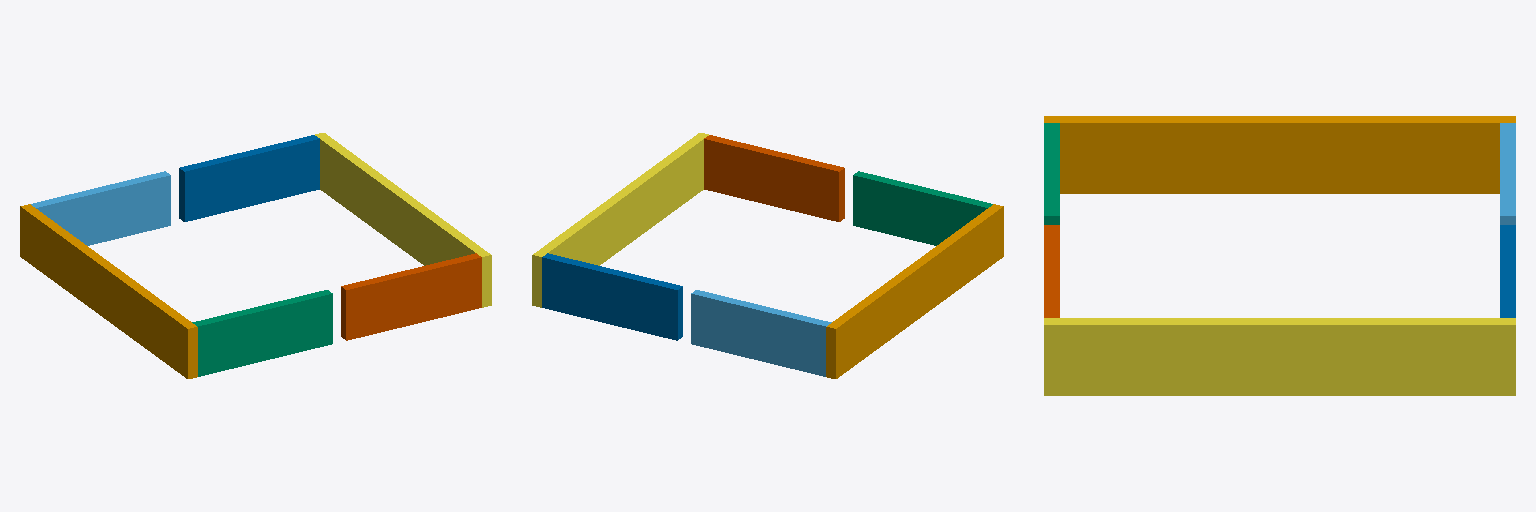
The robot description file, URDF, robot "gripper":
<?xml version="1.0" ?>
<!-- =================================================================================== -->
<!-- |    This document was autogenerated by xacro from gripper_01.urdf.xacro          | -->
<!-- |    EDITING THIS FILE BY HAND IS NOT RECOMMENDED                                 | -->
<!-- =================================================================================== -->
<robot name="gripper" xmlns:xacro="http://ros.org/wiki/xacro">
  <link name="gripper_wide_block_p">
    <visual>
      <geometry>
        <box size="0.01 0.3 0.05"/>
      </geometry>
    </visual>
    <collision name="collision">
      <geometry>
        <box size="0.01 0.3 0.05"/>
      </geometry>
    </collision>
    <inertial>
      <mass value="0.405"/>
      <inertia ixx="0.003121875" ixy="0.0" ixz="0.0" iyy="8.775e-05" iyz="0.0" izz="0.003040875"/>
    </inertial>
  </link>
  <link name="gripper_side_block_p1">
    <visual>
      <geometry>
        <box size="0.14 0.01 0.05"/>
      </geometry>
    </visual>
    <collision name="collision">
      <geometry>
        <box size="0.14 0.01 0.05"/>
      </geometry>
    </collision>
    <inertial>
      <mass value="0.189"/>
      <inertia ixx="4.095e-05" ixy="0.0" ixz="0.0" iyy="0.000348075" iyz="0.0" izz="0.000310275"/>
    </inertial>
  </link>
  <link name="gripper_side_block_p2">
    <visual>
      <geometry>
        <box size="0.14 0.01 0.05"/>
      </geometry>
    </visual>
    <collision name="collision">
      <geometry>
        <box size="0.14 0.01 0.05"/>
      </geometry>
    </collision>
    <inertial>
      <mass value="0.189"/>
      <inertia ixx="4.095e-05" ixy="0.0" ixz="0.0" iyy="0.000348075" iyz="0.0" izz="0.000310275"/>
    </inertial>
  </link>
  <link name="gripper_wide_block_d">
    <visual>
      <geometry>
        <box size="0.01 0.3 0.05"/>
      </geometry>
    </visual>
    <collision name="collision">
      <geometry>
        <box size="0.01 0.3 0.05"/>
      </geometry>
    </collision>
    <inertial>
      <mass value="0.405"/>
      <inertia ixx="0.003121875" ixy="0.0" ixz="0.0" iyy="8.775e-05" iyz="0.0" izz="0.003040875"/>
    </inertial>
  </link>
  <link name="gripper_side_block_d1">
    <visual>
      <geometry>
        <box size="0.14 0.01 0.05"/>
      </geometry>
    </visual>
    <collision name="collision">
      <geometry>
        <box size="0.14 0.01 0.05"/>
      </geometry>
    </collision>
    <inertial>
      <mass value="0.189"/>
      <inertia ixx="4.095e-05" ixy="0.0" ixz="0.0" iyy="0.000348075" iyz="0.0" izz="0.000310275"/>
    </inertial>
  </link>
  <link name="gripper_side_block_d2">
    <visual>
      <geometry>
        <box size="0.14 0.01 0.05"/>
      </geometry>
    </visual>
    <collision name="collision">
      <geometry>
        <box size="0.14 0.01 0.05"/>
      </geometry>
    </collision>
    <inertial>
      <mass value="0.189"/>
      <inertia ixx="4.095e-05" ixy="0.0" ixz="0.0" iyy="0.000348075" iyz="0.0" izz="0.000310275"/>
    </inertial>
  </link>
  <joint name="block_fixed_joint_p1" type="fixed">
    <origin rpy="0 0 0" xyz="0.075 0.145 0"/>
    <parent link="gripper_wide_block_p"/>
    <child link="gripper_side_block_p1"/>
  </joint>
  <joint name="block_fixed_joint_p2" type="fixed">
    <origin rpy="0 0 0" xyz="0.075 -0.145 0"/>
    <parent link="gripper_wide_block_p"/>
    <child link="gripper_side_block_p2"/>
  </joint>
  <joint name="block_fixed_joint_d1" type="fixed">
    <origin rpy="0 0 0" xyz="-0.075 0.145 0"/>
    <parent link="gripper_wide_block_d"/>
    <child link="gripper_side_block_d1"/>
  </joint>
  <joint name="block_fixed_joint_d2" type="fixed">
    <origin rpy="0 0 0" xyz="-0.075 -0.145 0"/>
    <parent link="gripper_wide_block_d"/>
    <child link="gripper_side_block_d2"/>
  </joint>
  <!-- Prismatic joint -->
  <joint name="gripper_joint" type="continuous">
    <origin rpy="0 0 0" xyz="0.304 0 0"/>
    <parent link="gripper_wide_block_p"/>
    <child link="gripper_wide_block_d"/>
  </joint>
  <transmission name="gripper_joint_transmission">
    <type>transmission_interface/SimpleTransmission</type>
    <joint name="gripper_joint">
      <hardwareInterface>EffortJointInterface</hardwareInterface>
    </joint>
    <actuator name="motor1">
      <hardwareInterface>EffortJointInterface</hardwareInterface>
      <mechanicalReduction>1</mechanicalReduction>
    </actuator>
  </transmission>
  <gazebo>
    <plugin filename="libgazebo_ros_control.so" name="gazebo_ros_control">
      <robotNamespace>/gripper</robotNamespace>
    </plugin>
  </gazebo>
</robot>

--- What the picture shows (computed from the rendered views, not written in the file) ---
The picture shows the robot from 3 angles, left to right: view 1: azimuth 30°, elevation 25°; view 2: azimuth 150°, elevation 25°; view 3: azimuth 270°, elevation 25°; orthographic projection.
Model gripper with 6 links and 5 joints (1 continuous, 4 fixed), rooted at gripper_wide_block_p, posed every joint at zero.
Links seen in each view (by area): view 1: gripper_wide_block_p, gripper_wide_block_d, gripper_side_block_d1, gripper_side_block_d2, gripper_side_block_p2, gripper_side_block_p1; view 2: gripper_wide_block_p, gripper_wide_block_d, gripper_side_block_d2, gripper_side_block_d1, gripper_side_block_p1, gripper_side_block_p2; view 3: gripper_wide_block_d, gripper_wide_block_p, gripper_side_block_p1, gripper_side_block_p2, gripper_side_block_d1, gripper_side_block_d2.
Link boxes in pixels (box(x1,y1,x2,y2)): gripper_wide_block_p: box(20, 204, 197, 378); gripper_wide_block_d: box(315, 133, 491, 307); gripper_side_block_d1: box(179, 135, 319, 221); gripper_side_block_d2: box(341, 253, 481, 340); gripper_side_block_p2: box(192, 290, 332, 376); gripper_side_block_p1: box(31, 171, 170, 245); gripper_wide_block_p: box(826, 204, 1003, 378); gripper_wide_block_d: box(532, 133, 708, 307); gripper_side_block_d2: box(704, 135, 844, 221); gripper_side_block_d1: box(542, 253, 682, 340); gripper_side_block_p1: box(691, 290, 831, 376); gripper_side_block_p2: box(853, 171, 992, 245); gripper_wide_block_d: box(1044, 318, 1515, 395); gripper_wide_block_p: box(1044, 116, 1515, 193); gripper_side_block_p1: box(1500, 123, 1515, 224); gripper_side_block_p2: box(1044, 123, 1059, 224); gripper_side_block_d1: box(1500, 225, 1515, 317); gripper_side_block_d2: box(1044, 225, 1059, 317).
Bounding box of the posed robot: 0.314 × 0.3 × 0.05 m (x, y, z).
Geometry: primitives only (box / cylinder / sphere), no mesh files.